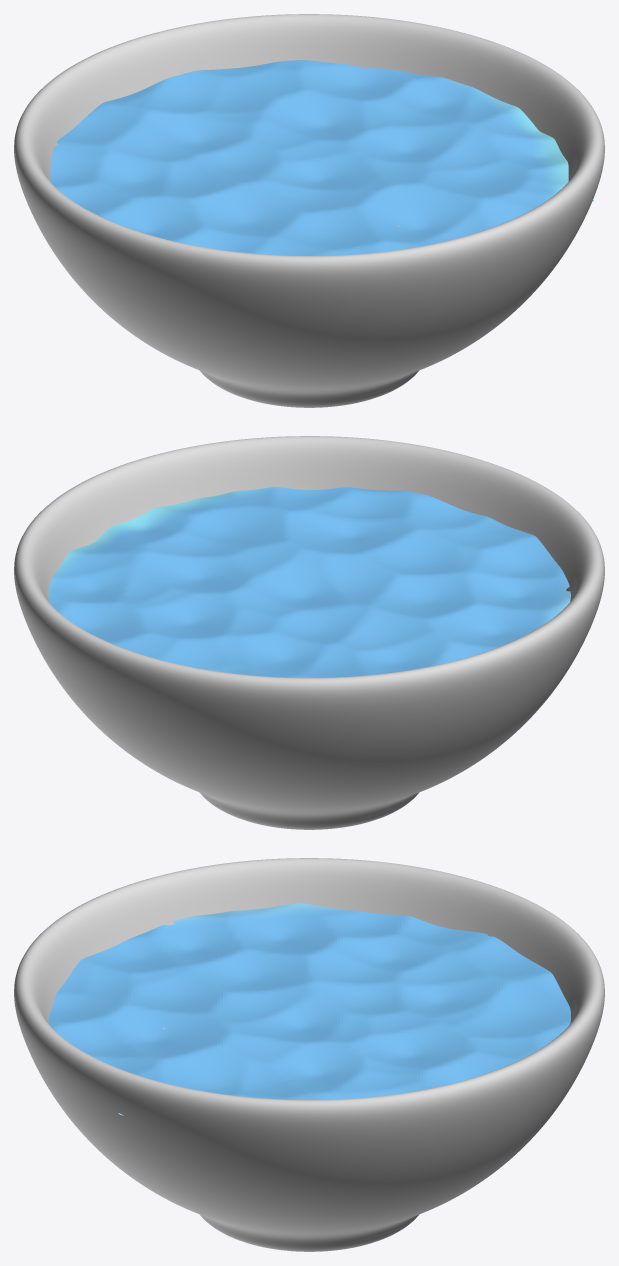
File: waterbowl.fbx
3 renders of one model, top to bottom at view 1: azimuth 30°, elevation 25°; view 2: azimuth 150°, elevation 25°; view 3: azimuth 270°, elevation 25°, orthographic.
Visible parts, largest first — view 1: Sphere, Plane; view 2: Sphere, Plane; view 3: Sphere, Plane.
Part boxes in pixels (x1,y1,x2,y2): Sphere: (14,14,604,407); Plane: (50,60,593,255); Sphere: (14,436,604,829); Plane: (48,487,570,677); Sphere: (14,858,604,1251); Plane: (48,903,570,1115).
Bounding box in the file's own units: 190 × 83.7 × 190.
